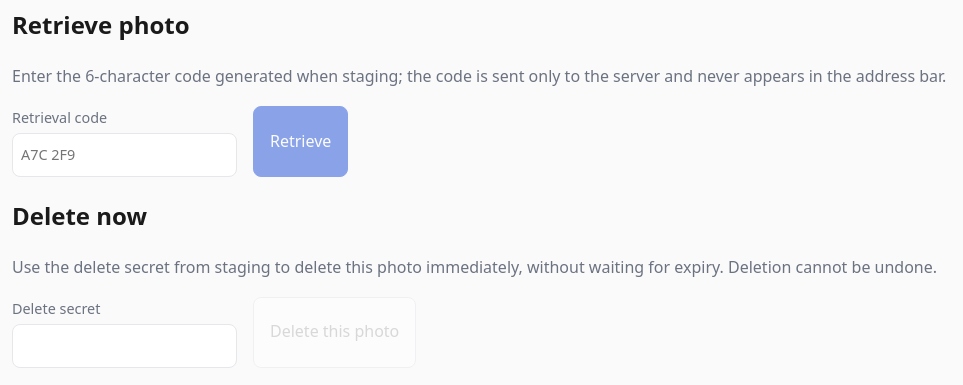
RetrievePage › normalizes the key while typing and shows it grouped
Type "a7c-2f9" into the field labelled "Retrieval code" at point(124, 155), box [12,133,237,177]
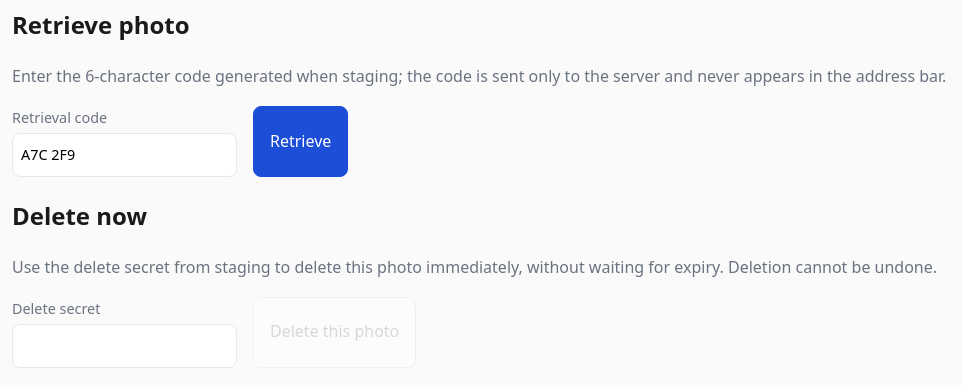
expect the field labelled "Retrieval code" holds "A7C 2F9": met, box [12,133,237,177]
